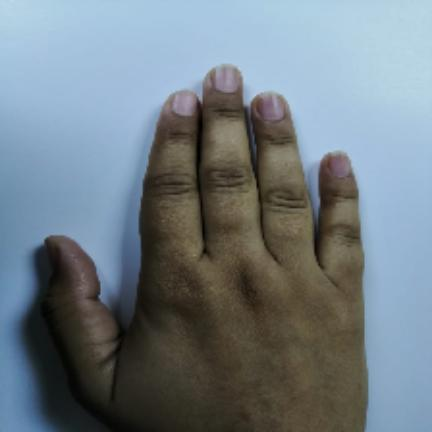Nail: (256, 91, 285, 120), (214, 64, 240, 93), (328, 150, 352, 178), (172, 91, 197, 116), (46, 243, 55, 266)
